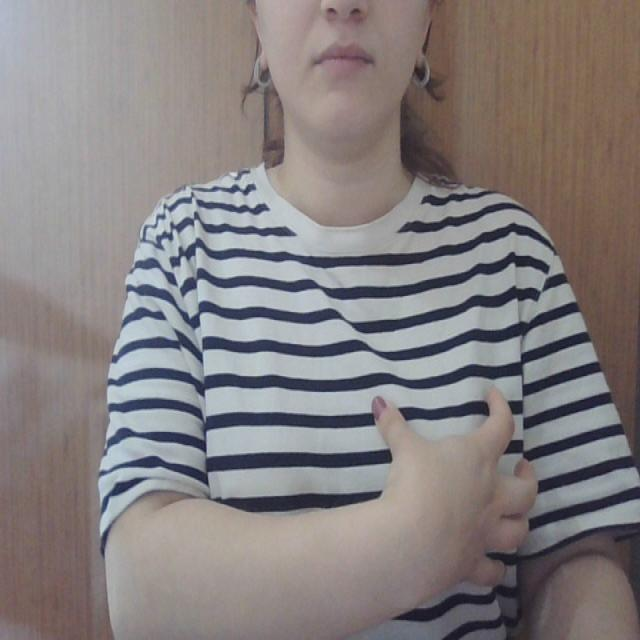Anne: (365, 362, 541, 602)
